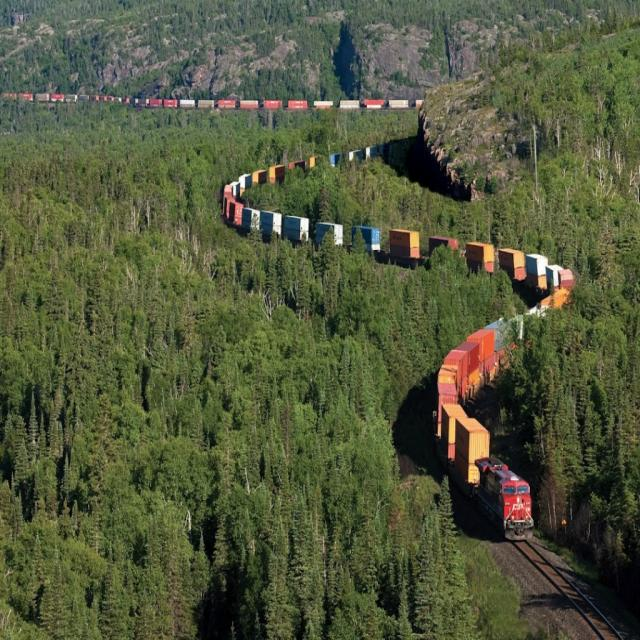container: (454, 415, 491, 463), (441, 401, 468, 445), (436, 381, 459, 418)
locomotive: (470, 453, 538, 548)
